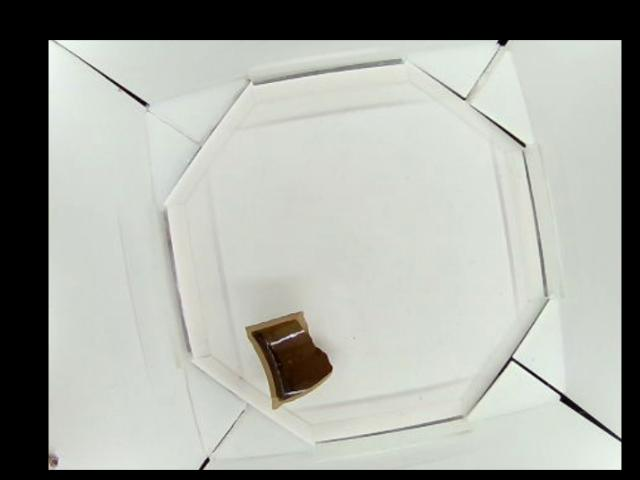China: (242, 308, 333, 405)
